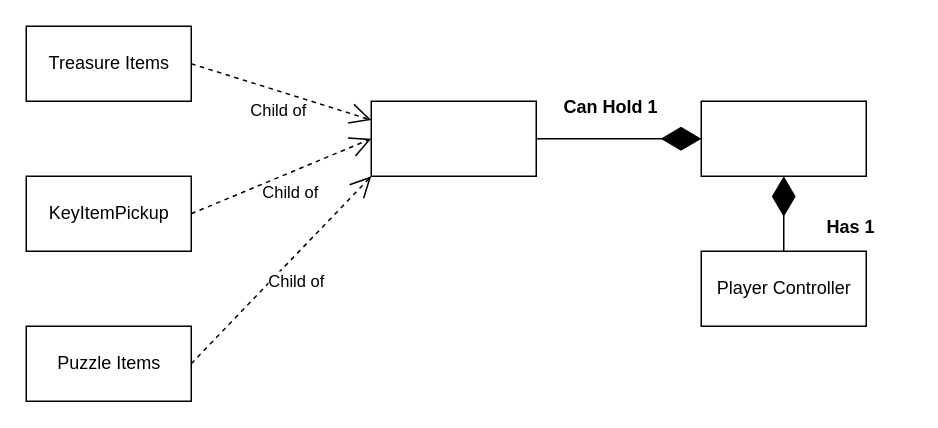
The diagram is 938 pixels wide and 428 high, and some of its shapes have lost their labels. The box of each missing label's shape, as (x1, y1, x2, y2) in pixels:
BasicPickUpObject: (370, 100, 536, 176)
Player Pawn: (700, 100, 866, 176)
